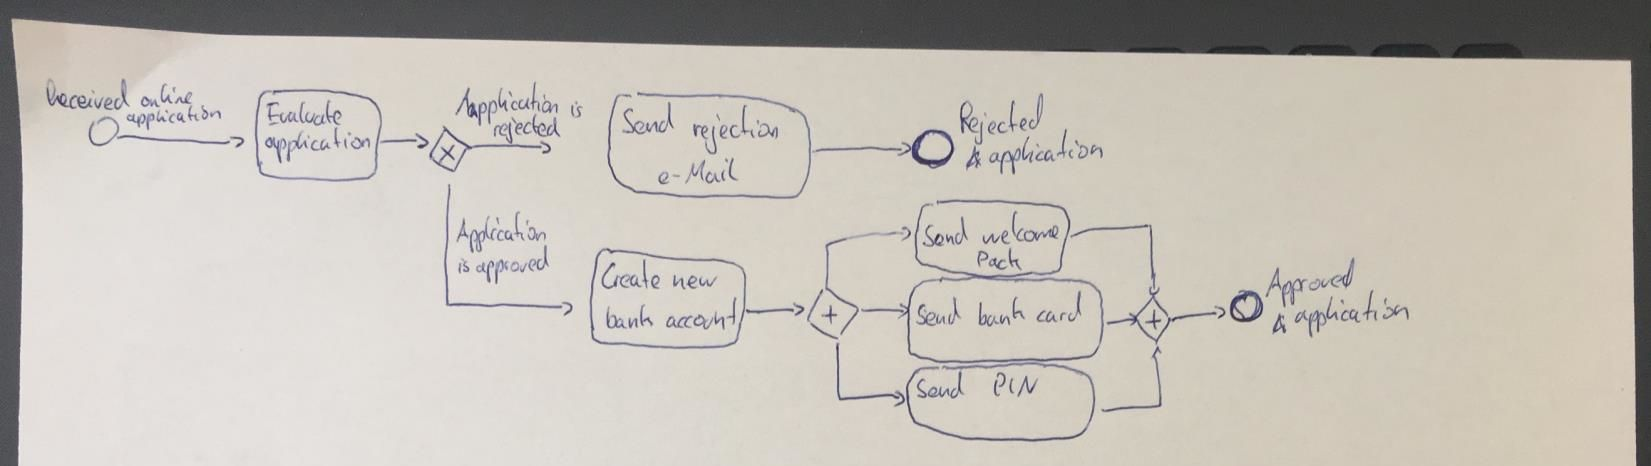Application: (451, 209, 555, 251), (452, 85, 566, 118)
Approved: (1264, 254, 1361, 307)
Create: (597, 254, 667, 293)
Evaluate: (264, 100, 351, 127)
PIN: (993, 372, 1041, 400)
Pack: (975, 249, 1022, 272)
Received: (43, 74, 134, 115)
Rejected: (949, 92, 1054, 145)
Send: (619, 105, 677, 145), (912, 295, 969, 335), (913, 368, 977, 403), (922, 217, 976, 248)
account: (664, 293, 743, 332)
application: (1291, 291, 1413, 338), (984, 134, 1112, 171), (262, 129, 373, 167), (120, 102, 227, 131)
approved: (473, 245, 559, 281)
bank: (970, 293, 1033, 332), (603, 300, 658, 332)
card: (1029, 291, 1090, 331)
e-Mail: (647, 156, 752, 191)
is: (560, 95, 590, 124), (453, 257, 471, 282)
new: (668, 264, 720, 297)
online: (135, 76, 200, 112)
rejected: (486, 114, 564, 144)
rejection: (684, 106, 788, 159)
welcome: (979, 211, 1063, 248)
